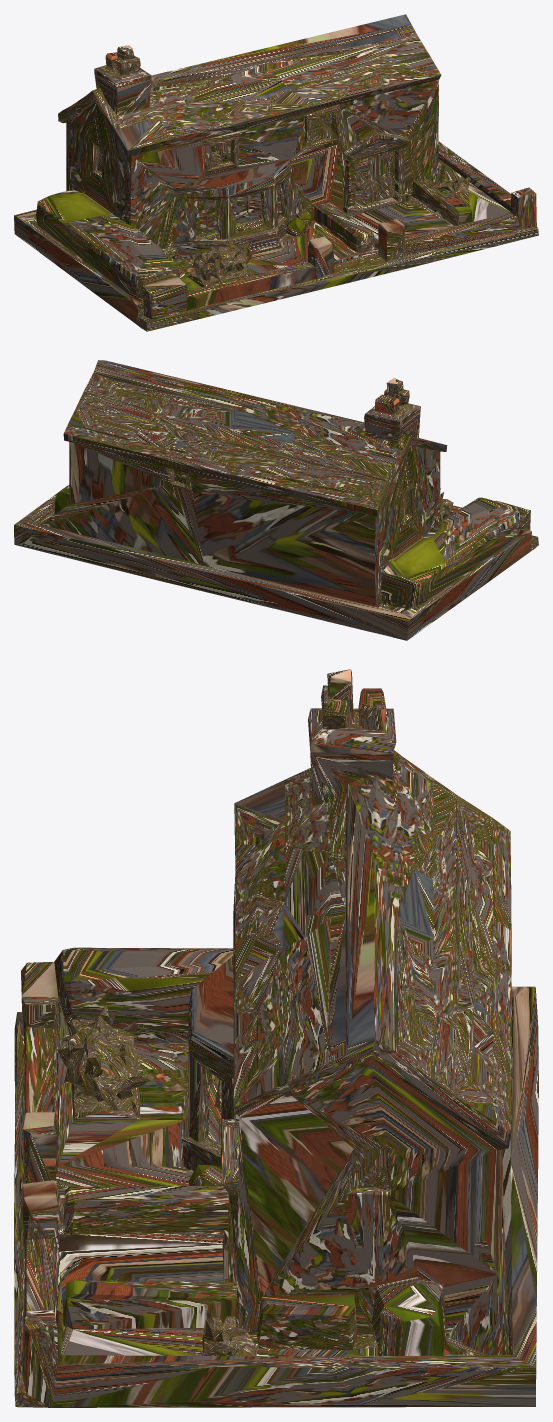
File: town_townhouse_garden_2.glb
The picture shows the model from 3 angles, top to bottom: view 1: azimuth 30°, elevation 25°; view 2: azimuth 150°, elevation 25°; view 3: azimuth 270°, elevation 25°; orthographic projection. The views are drawn at different scales.
Parts seen in each view (by area): view 1: normalize; view 2: normalize; view 3: normalize.
Boxes of the visible parts, left/top/right/bottom form: normalize: left=14, top=14, right=538, bottom=331; normalize: left=14, top=360, right=538, bottom=640; normalize: left=14, top=669, right=538, bottom=1407.
Bounding box in the file's own units: 1 × 0.5119 × 0.5813.
Materials: 1 (1 with a texture image).
